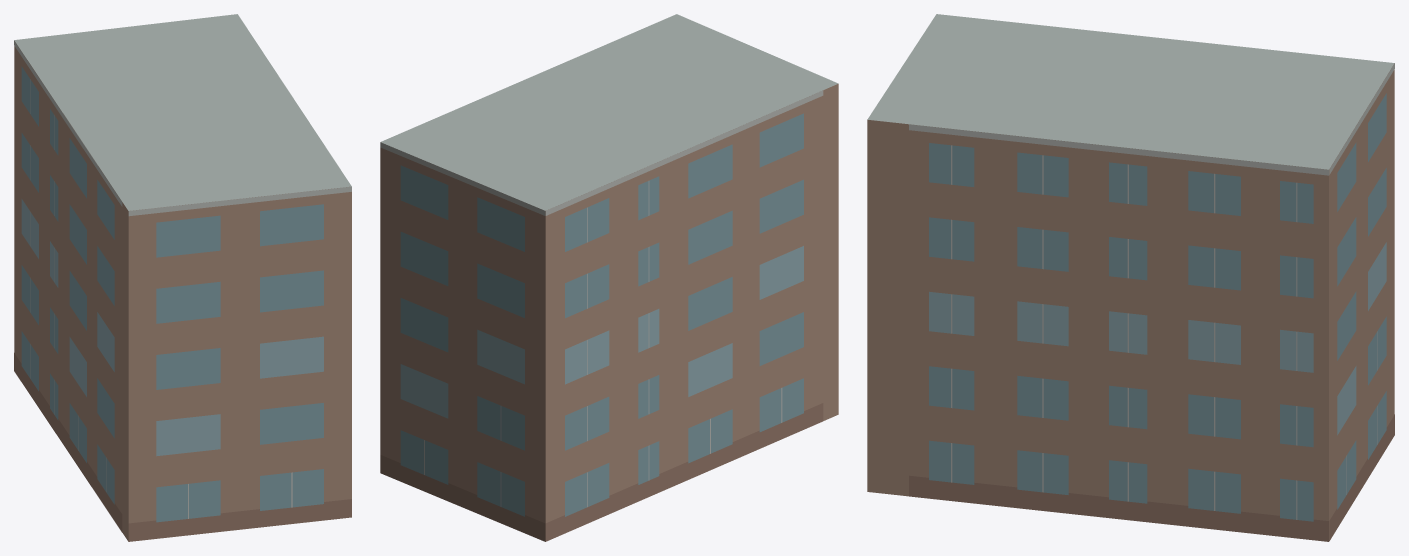
The model's file is survey-upis-32765726.glb.
3 renders of one model, left to right at view 1: azimuth 30°, elevation 25°; view 2: azimuth 150°, elevation 25°; view 3: azimuth 270°, elevation 25°, orthographic. The views are drawn at different scales.
Visible parts, largest first — view 1: survey-upis-32765726.tmp; view 2: survey-upis-32765726.tmp; view 3: survey-upis-32765726.tmp.
Part boxes in pixels (bbox=[...]): survey-upis-32765726.tmp: bbox=[14, 14, 351, 541]; survey-upis-32765726.tmp: bbox=[380, 14, 838, 541]; survey-upis-32765726.tmp: bbox=[867, 14, 1394, 541].
Bounding box in the file's own units: 13.69 × 15.25 × 19.6.
